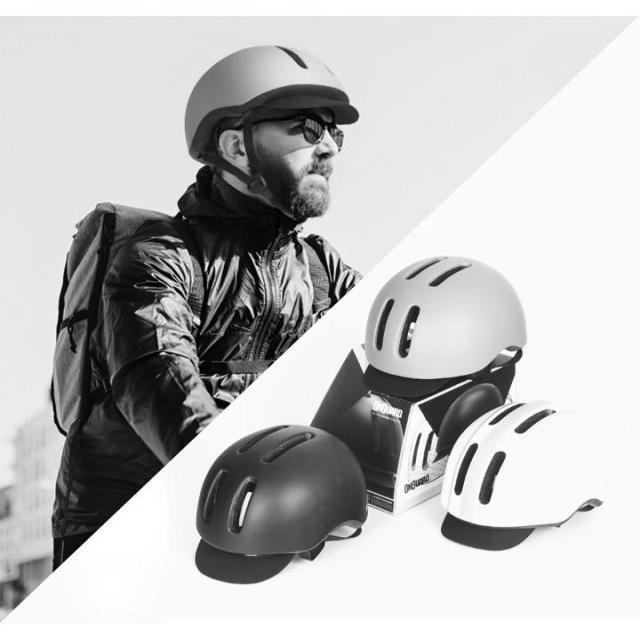helmet: (194, 423, 368, 584), (439, 399, 604, 550), (362, 254, 527, 396), (183, 43, 359, 162)
